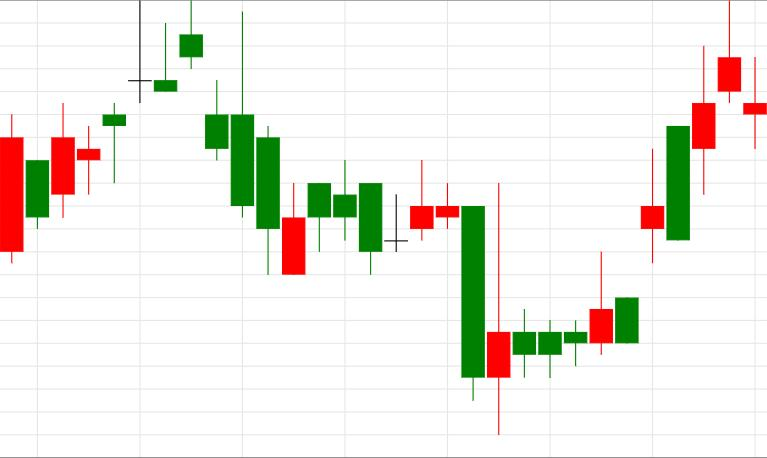shooting_star_fall: (590, 0, 741, 355)
